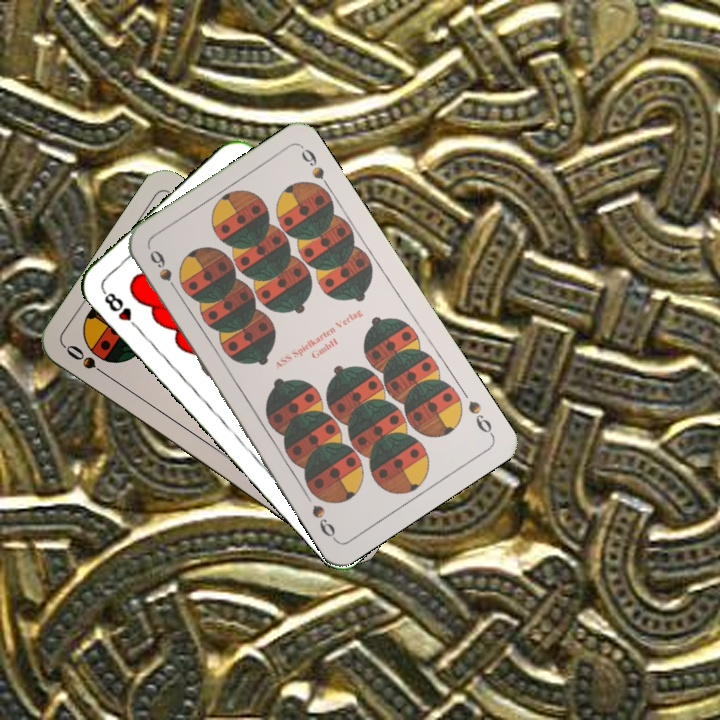H8: (98, 286, 143, 334)
S9: (145, 245, 183, 298), (463, 396, 496, 439)
SO: (61, 340, 113, 381)
